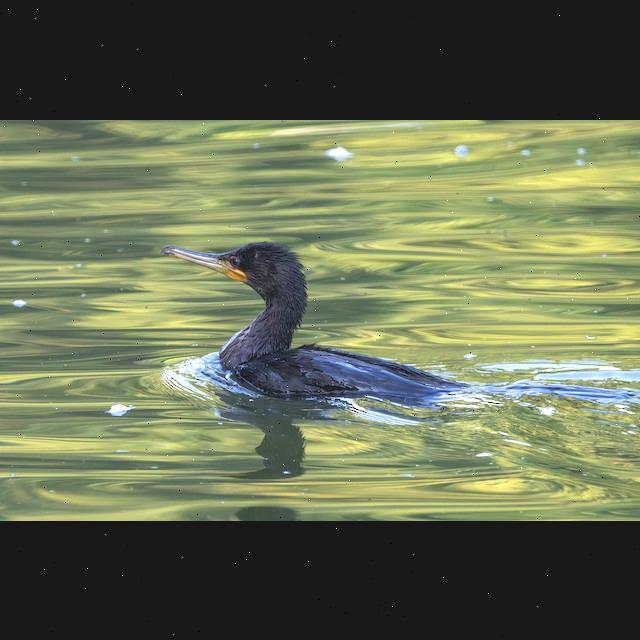cormorant: (147, 233, 493, 422)
